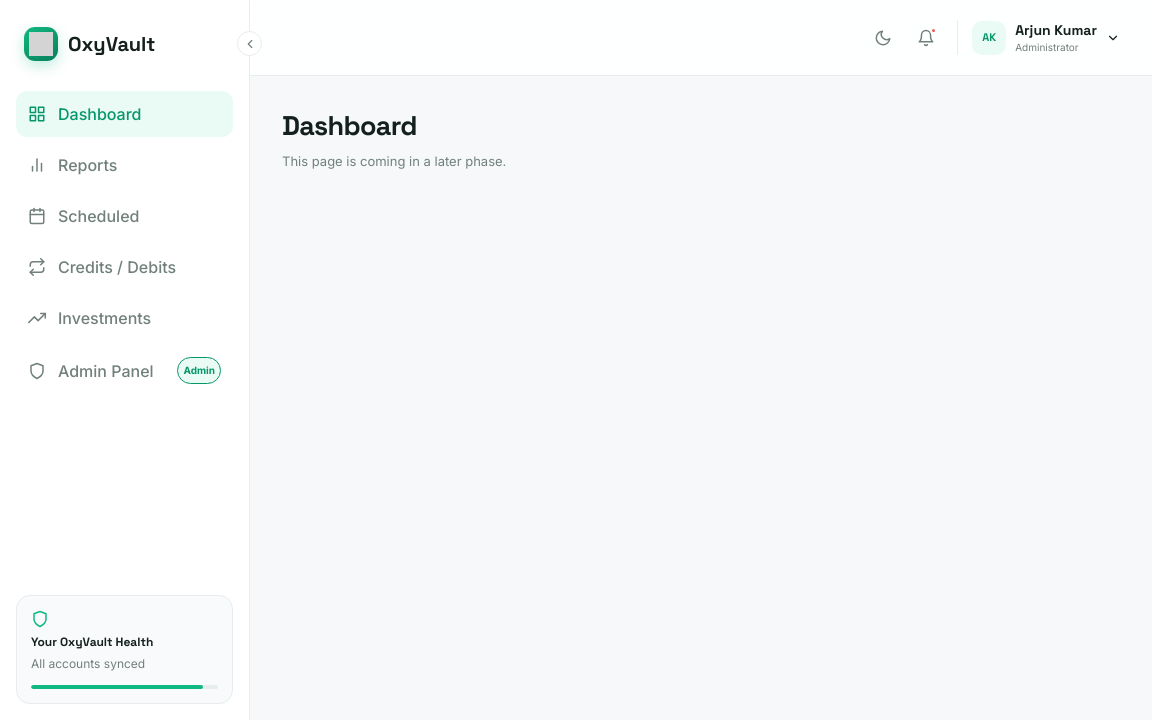
Test case: App routing › reaches the Profile page from the profile menu
The width and height of the screenshot is (1152, 720).
Click the button with aria-label "Account menu" at point(1039, 38), box [957, 20, 1120, 55]
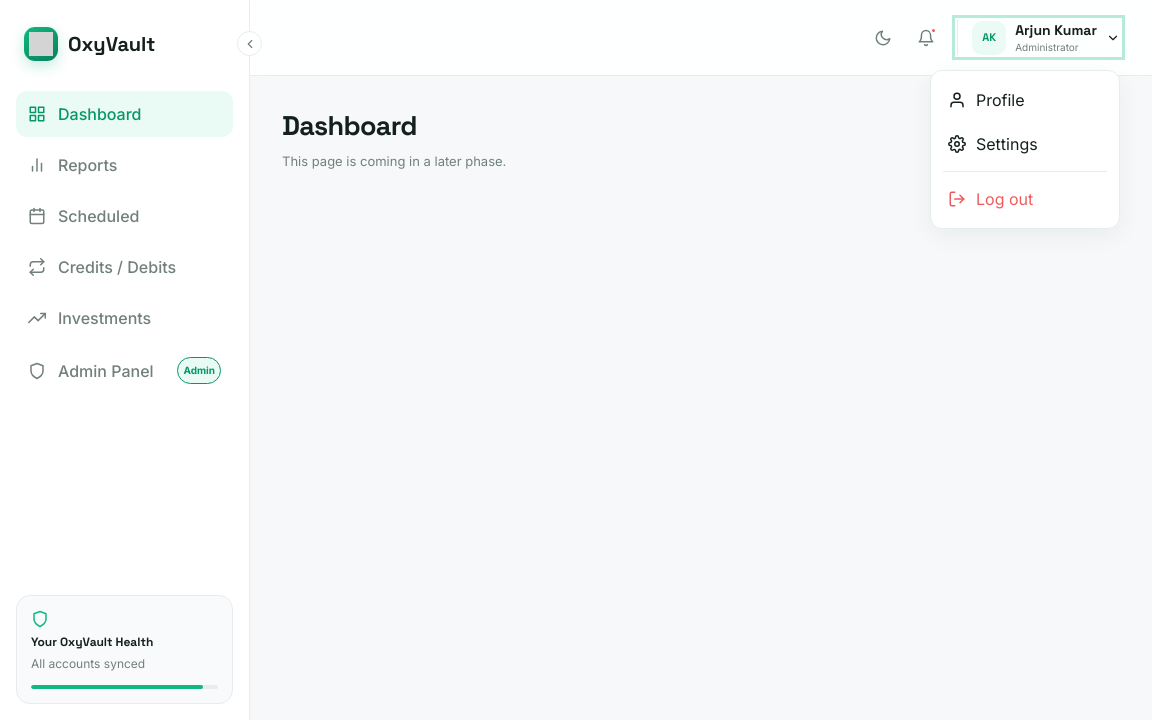
Click the menu item "Profile" at point(986, 100), box [948, 90, 1025, 110]
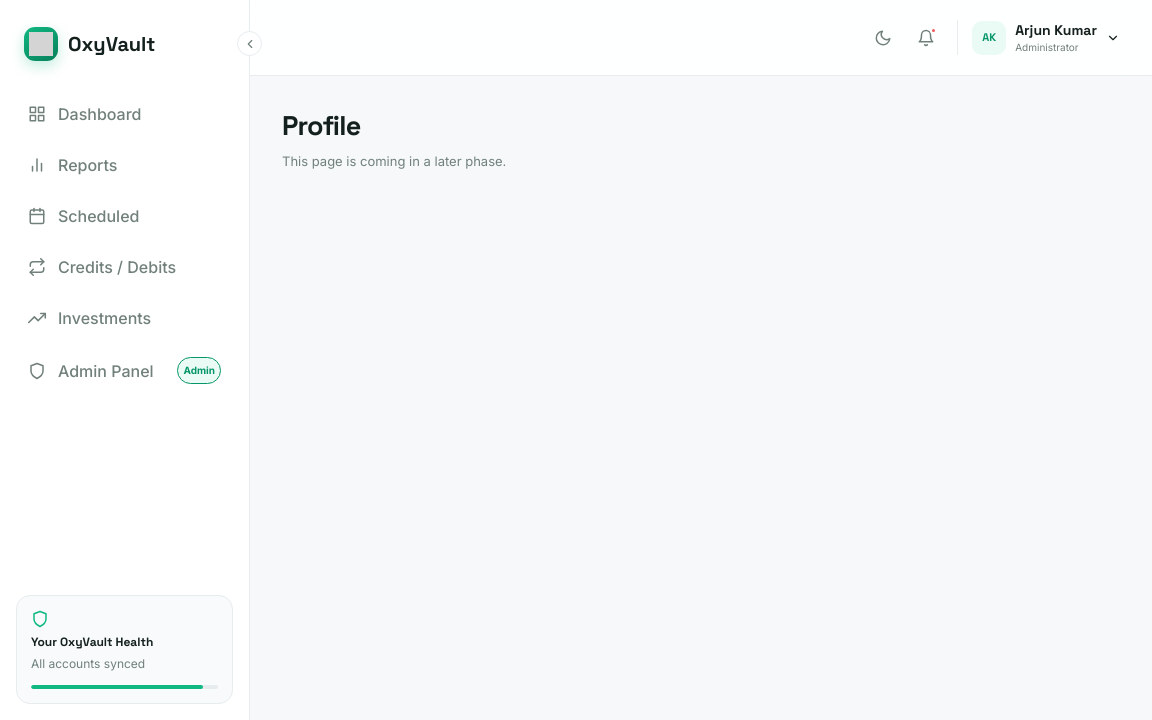
Result: the heading "Profile" is shown at [282, 108, 361, 143]
